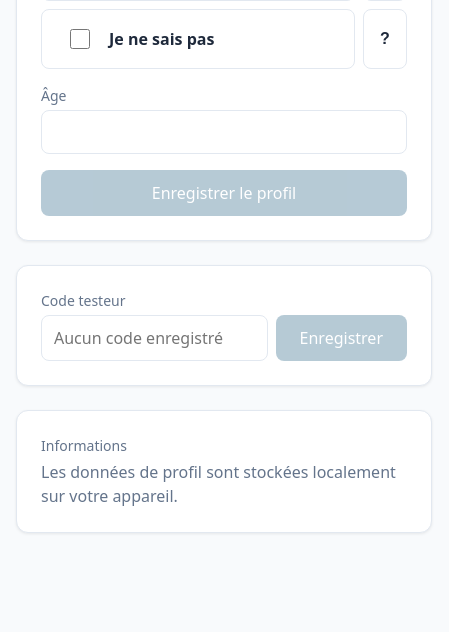
E111Profile › refuse un mot de passe qui ne correspond pas à l’empreinte
(page scrolled)
In the field named "Code testeur": (154, 338) [41,315,268,361], type "marie"
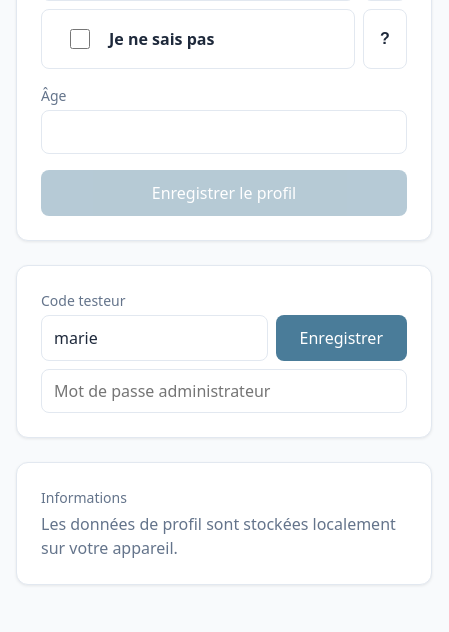
In the password field labelled "Mot de passe administrateur": (224, 391) [41,369,407,413], type "faux"
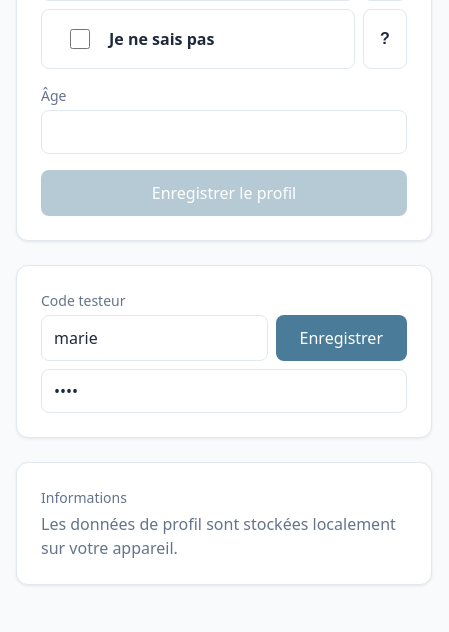
Click the button "Enregistrer": (341, 338) [276,315,407,361]
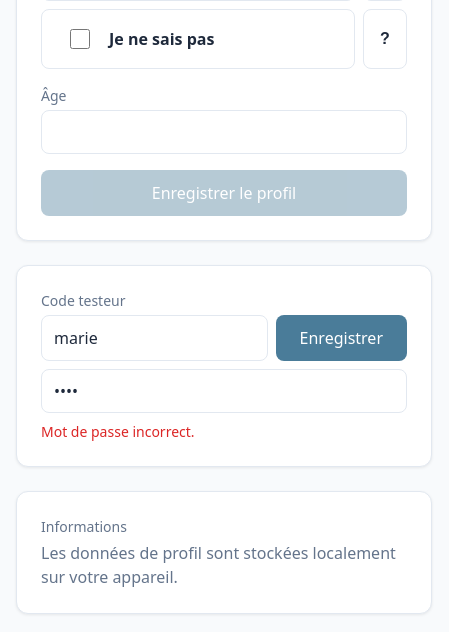
Expected: the message reads "Mot de passe incorrect.", [41,422,195,441]
